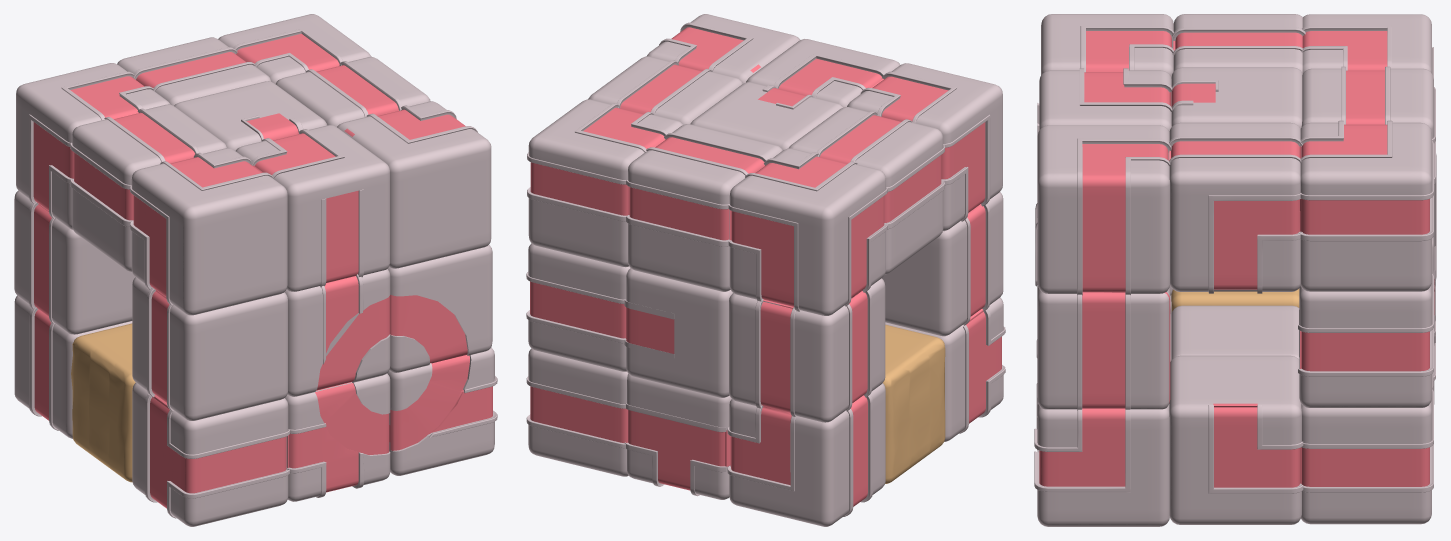
File: Pink cubes.fbx
3 renders of one model, left to right at view 1: azimuth 30°, elevation 25°; view 2: azimuth 150°, elevation 25°; view 3: azimuth 270°, elevation 25°, orthographic. The views are drawn at different scales.
Visible parts, largest first — view 1: pasted__pasted__pCube889, pasted__pasted__pCube1186, pasted__pasted__pCube996, pasted__pasted__pCube894, pasted__pasted__pCube1185, pasted__pasted__pCube888, pasted__pasted__pCube890, pasted__pPipe8, pasted__pPipe9, pasted__pPipe10, pasted__pasted__pCube1187, pasted__pPipe7 (+6 smaller); view 2: pasted__pasted__pCube890, pasted__pasted__pCube1187, pasted__pasted__pCube893, pasted__pasted__pCube994, pasted__pasted__pCube1182, pasted__pasted__pCube889, pasted__pasted__pCube888, pasted__pasted__pCube1181, pasted__pasted__pCube996, pasted__pasted__pCube891, pasted__pasted__pCube892, pasted__pasted__pCube995 (+6 smaller); view 3: pasted__pasted__pCube1182, pasted__pasted__pCube993, pasted__pasted__pCube1185, pasted__pasted__pCube1183, pasted__pPipe8, pasted__pasted__pCube995, pasted__pPipe7, pasted__pasted__pCube892, pasted__pasted__pCube889, pasted__pasted__pCube894, pasted__pasted__pCube994, pasted__pasted__pCube1184 (+4 smaller).
Boxes of the visible parts, x1=… form: pasted__pasted__pCube889: x1=130, y1=148, x2=287, y2=315; pasted__pasted__pCube1186: x1=132, y1=383, x2=289, y2=526; pasted__pasted__pCube996: x1=132, y1=277, x2=287, y2=420; pasted__pasted__pCube894: x1=236, y1=125, x2=389, y2=291; pasted__pasted__pCube1185: x1=337, y1=101, x2=491, y2=268; pasted__pasted__pCube888: x1=70, y1=104, x2=226, y2=271; pasted__pasted__pCube890: x1=16, y1=63, x2=170, y2=229; pasted__pPipe8: x1=387, y1=347, x2=497, y2=475; pasted__pPipe9: x1=285, y1=373, x2=390, y2=501; pasted__pPipe10: x1=284, y1=269, x2=390, y2=396; pasted__pasted__pCube1187: x1=14, y1=190, x2=135, y2=334; pasted__pPipe7: x1=387, y1=245, x2=492, y2=372; pasted__pasted__pCube890: x1=728, y1=148, x2=887, y2=315; pasted__pasted__pCube1187: x1=729, y1=278, x2=885, y2=422; pasted__pasted__pCube893: x1=727, y1=383, x2=885, y2=526; pasted__pasted__pCube994: x1=626, y1=124, x2=782, y2=291; pasted__pasted__pCube1182: x1=527, y1=99, x2=683, y2=267; pasted__pasted__pCube889: x1=847, y1=63, x2=1002, y2=231; pasted__pasted__pCube888: x1=789, y1=107, x2=944, y2=274; pasted__pasted__pCube1181: x1=624, y1=268, x2=732, y2=397; pasted__pasted__pCube996: x1=882, y1=192, x2=1003, y2=336; pasted__pasted__pCube891: x1=624, y1=373, x2=731, y2=499; pasted__pasted__pCube892: x1=526, y1=348, x2=628, y2=476; pasted__pasted__pCube995: x1=526, y1=243, x2=630, y2=371; pasted__pasted__pCube1182: x1=1298, y1=120, x2=1433, y2=291; pasted__pasted__pCube993: x1=1169, y1=355, x2=1303, y2=524; pasted__pasted__pCube1185: x1=1037, y1=125, x2=1171, y2=295; pasted__pasted__pCube1183: x1=1169, y1=122, x2=1302, y2=293; pasted__pPipe8: x1=1034, y1=401, x2=1169, y2=526; pasted__pasted__pCube995: x1=1298, y1=274, x2=1433, y2=407; pasted__pPipe7: x1=1037, y1=252, x2=1170, y2=410; pasted__pasted__pCube892: x1=1301, y1=389, x2=1433, y2=524; pasted__pasted__pCube889: x1=1041, y1=14, x2=1173, y2=77; pasted__pasted__pCube894: x1=1037, y1=68, x2=1172, y2=217; pasted__pasted__pCube994: x1=1301, y1=66, x2=1435, y2=184; pasted__pasted__pCube1184: x1=1171, y1=67, x2=1302, y2=128.
Bounding box in the file's own units: 20.2 × 19.92 × 20.15.
